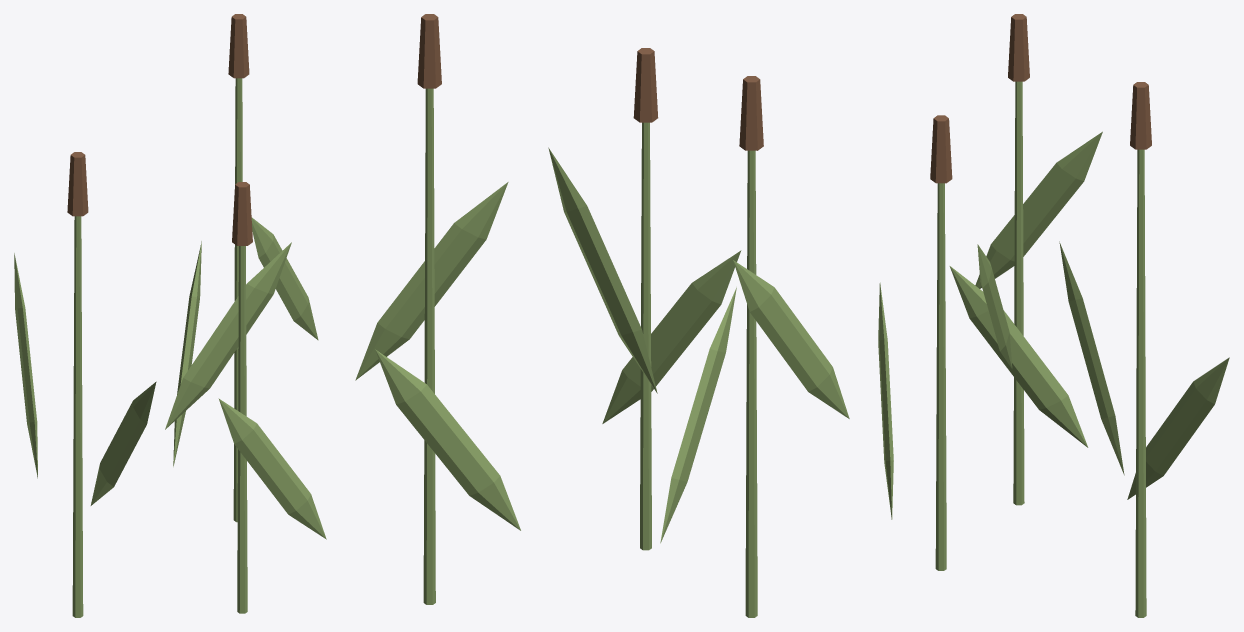
Rendered from SM_MarshwardTallReeds_01.fbx.
3 views of the same model, side by side, from view 1: azimuth 30°, elevation 25°; view 2: azimuth 150°, elevation 25°; view 3: azimuth 270°, elevation 25° (orthographic). The views are drawn at different scales.
Visible parts, largest first — view 1: SM_MarshwardTallReeds_01; view 2: SM_MarshwardTallReeds_01; view 3: SM_MarshwardTallReeds_01.
Part boxes in pixels (x1,y1,x2,y2): SM_MarshwardTallReeds_01: (14, 14, 326, 617); SM_MarshwardTallReeds_01: (355, 14, 849, 617); SM_MarshwardTallReeds_01: (878, 14, 1229, 617).
Bounding box in the file's own units: 220 × 180 × 300.
